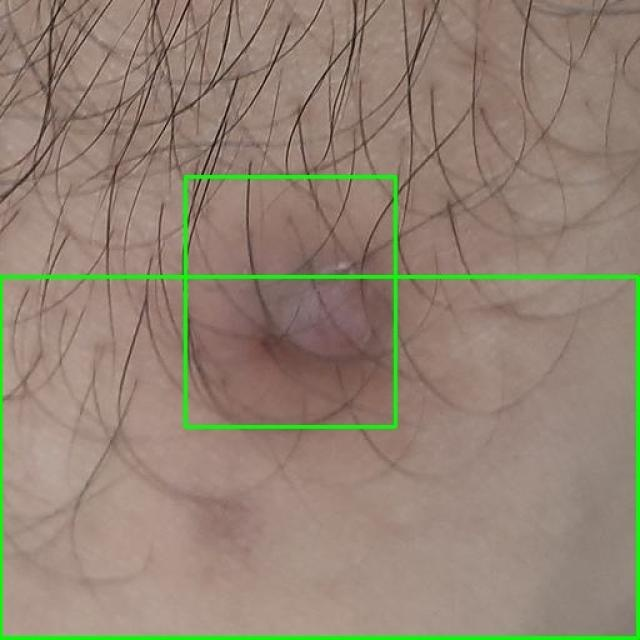Eczema: (0, 276, 639, 639), (185, 176, 395, 426)
